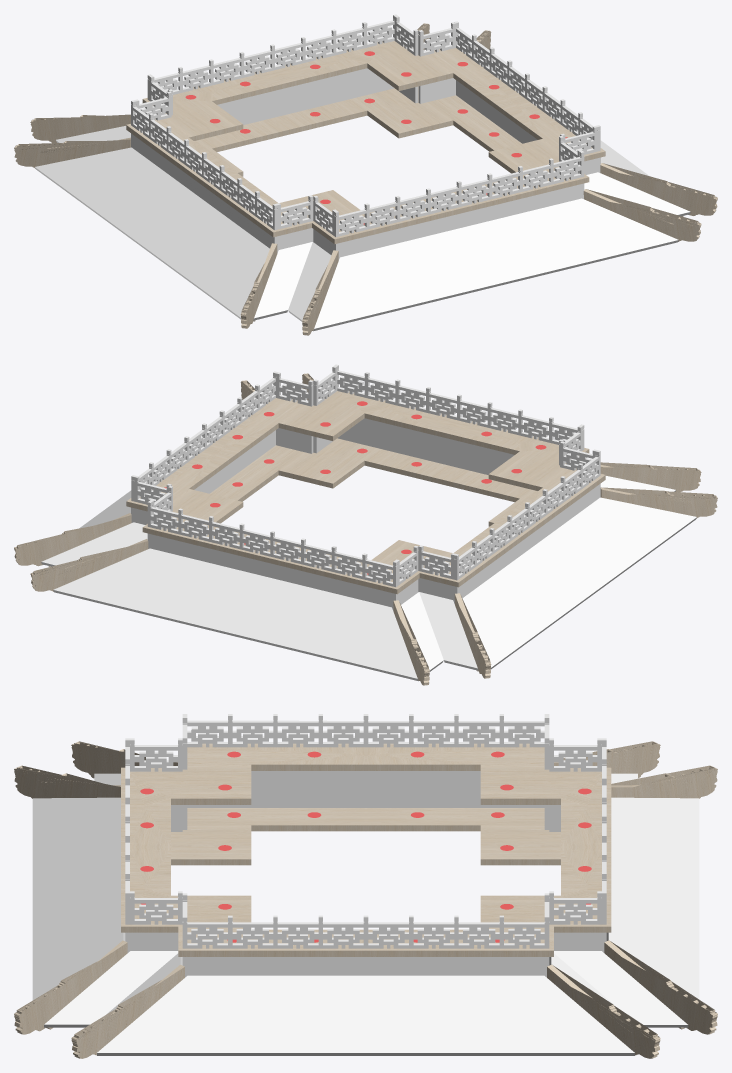
3 views of the same model, one above another, from view 1: azimuth 30°, elevation 25°; view 2: azimuth 150°, elevation 25°; view 3: azimuth 270°, elevation 25° (orthographic). The views are drawn at different scales.
Visible parts, largest first — view 1: Mesh24 ___690_5 ___715_3 ___762_3 Model, Mesh25 ___690_6 ___715_3 ___762_3 Model, Mesh21 ___690_4 ___715_2 ___762_2 Model, Mesh20 ___690_3 ___715_2 ___762_2 Model, Mesh120 ___733_3 ___771_1 ___809_1 Model, Mesh62 ___744_1 ___784_1 Model, Mesh111 ___733_2 ___771_1 ___809_1 Model, Mesh129 ___733_4 ___771_1 ___809_1 Model, Mesh102 ___733_1 ___771_1 ___809_1 Model, Mesh37 ___699_6 ___738_3 ___780_3 Model, Mesh1 ___706_1 ___786_1 Model, Mesh23 ___741_5 ___762_3 Model (+35 smaller); view 2: Mesh14 ___690_2 ___715_1 ___762_1 Model, Mesh13 ___690_1 ___715_1 ___762_1 Model, Mesh20 ___690_3 ___715_2 ___762_2 Model, Mesh21 ___690_4 ___715_2 ___762_2 Model, Mesh129 ___733_4 ___771_1 ___809_1 Model, Mesh80 ___744_3 ___784_1 Model, Mesh102 ___733_1 ___771_1 ___809_1 Model, Mesh120 ___733_3 ___771_1 ___809_1 Model, Mesh111 ___733_2 ___771_1 ___809_1 Model, Mesh32 ___699_3 ___738_2 ___780_2 Model, Mesh17 ___706_4 ___786_2 Model, Mesh19 ___741_3 ___762_2 Model (+35 smaller); view 3: Mesh95 ___690_8 ___715_4 ___762_4 Model, Mesh94 ___690_7 ___715_4 ___762_4 Model, Mesh111 ___733_2 ___771_1 ___809_1 Model, Mesh102 ___733_1 ___771_1 ___809_1 Model, Mesh25 ___690_6 ___715_3 ___762_3 Model, Mesh13 ___690_1 ___715_1 ___762_1 Model, Mesh120 ___733_3 ___771_1 ___809_1 Model, Mesh129 ___733_4 ___771_1 ___809_1 Model, Mesh24 ___690_5 ___715_3 ___762_3 Model, Mesh14 ___690_2 ___715_1 ___762_1 Model, Mesh71 ___744_2 ___784_1 Model, Mesh89 ___744_4 ___784_1 Model (+37 smaller).
Part boxes in pixels (x1,y1,x2,y2): Mesh24 ___690_5 ___715_3 ___762_3 Model: (461,198,678,286); Mesh25 ___690_6 ___715_3 ___762_3 Model: (313,228,496,331); Mesh21 ___690_4 ___715_2 ___762_2 Model: (35,147,200,245); Mesh20 ___690_3 ___715_2 ___762_2 Model: (140,198,269,319); Mesh120 ___733_3 ___771_1 ___809_1 Model: (274,41,525,110); Mesh62 ___744_1 ___784_1 Model: (274,86,521,151); Mesh111 ___733_2 ___771_1 ___809_1 Model: (126,70,289,183); Mesh129 ___733_4 ___771_1 ___809_1 Model: (451,99,605,212); Mesh102 ___733_1 ___771_1 ___809_1 Model: (199,170,461,244); Mesh37 ___699_6 ___738_3 ___780_3 Model: (273,68,394,117); Mesh1 ___706_1 ___786_1 Model: (253,242,312,320); Mesh23 ___741_5 ___762_3 Model: (583,189,701,241); Mesh14 ___690_2 ___715_1 ___762_1 Model: (53,548,270,636); Mesh13 ___690_1 ___715_1 ___762_1 Model: (235,578,418,681); Mesh20 ___690_3 ___715_2 ___762_2 Model: (531,497,696,595); Mesh21 ___690_4 ___715_2 ___762_2 Model: (462,548,591,669); Mesh129 ___733_4 ___771_1 ___809_1 Model: (206,391,457,460); Mesh80 ___744_3 ___784_1 Model: (210,438,457,501); Mesh102 ___733_1 ___771_1 ___809_1 Model: (442,420,605,533); Mesh120 ___733_3 ___771_1 ___809_1 Model: (126,449,280,562); Mesh111 ___733_2 ___771_1 ___809_1 Model: (270,520,532,594); Mesh32 ___699_3 ___738_2 ___780_2 Model: (337,418,458,467); Mesh17 ___706_4 ___786_2 Model: (419,592,478,670); Mesh19 ___741_3 ___762_2 Model: (600,487,717,518); Mesh95 ___690_8 ___715_4 ___762_4 Model: (97,975,365,1055); Mesh94 ___690_7 ___715_4 ___762_4 Model: (366,975,634,1055); Mesh111 ___733_2 ___771_1 ___809_1 Model: (366,743,611,846); Mesh102 ___733_1 ___771_1 ___809_1 Model: (121,743,365,846); Mesh25 ___690_6 ___715_3 ___762_3 Model: (32,797,120,911); Mesh13 ___690_1 ___715_1 ___762_1 Model: (611,797,699,911); Mesh120 ___733_3 ___771_1 ___809_1 Model: (366,847,611,956); Mesh129 ___733_4 ___771_1 ___809_1 Model: (121,847,365,956); Mesh24 ___690_5 ___715_3 ___762_3 Model: (32,874,125,999); Mesh14 ___690_2 ___715_1 ___762_1 Model: (606,874,699,999); Mesh71 ___744_2 ___784_1 Model: (366,808,560,865); Mesh89 ___744_4 ___784_1 Model: (171,808,365,865).
Bounding box in the file's own units: 307 × 49.39 × 307.
4 materials, 1 textured.
